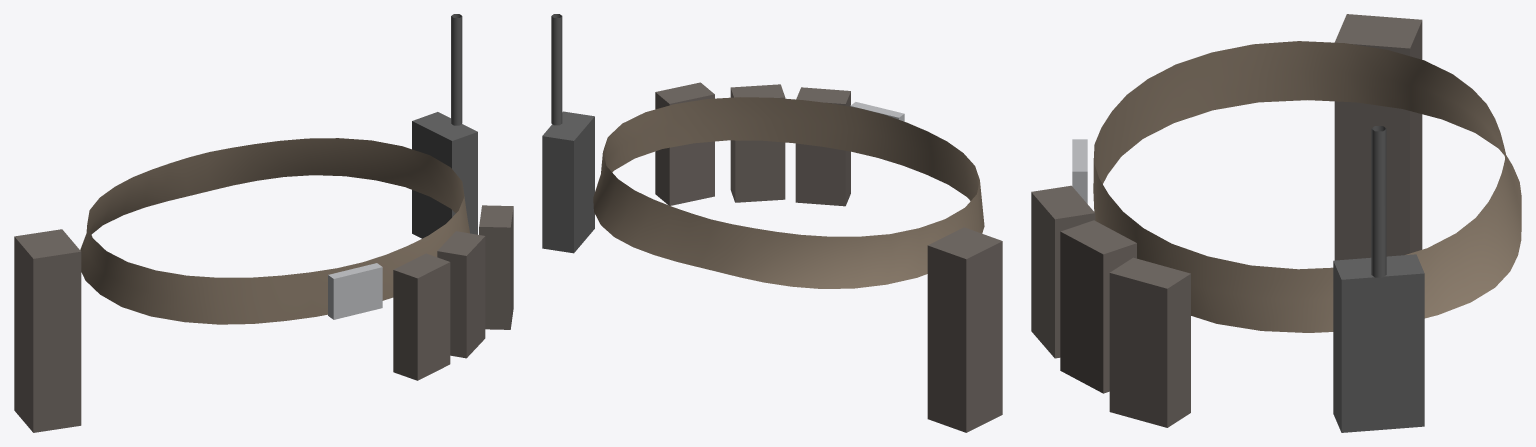
The model's file is cinto_tatico_marrom.glb.
3 renders of one model, left to right at view 1: azimuth 30°, elevation 25°; view 2: azimuth 150°, elevation 25°; view 3: azimuth 270°, elevation 25°, orthographic. The views are drawn at different scales.
Parts seen in each view (by area): view 1: cinto_tatico_marrom; view 2: cinto_tatico_marrom; view 3: cinto_tatico_marrom.
Part boxes in pixels (x1,y1,x2,y2): cinto_tatico_marrom: [14, 14, 513, 432]; cinto_tatico_marrom: [542, 14, 1002, 432]; cinto_tatico_marrom: [1031, 14, 1521, 432].
Bounding box in the file's own units: 0.4523 × 0.295 × 0.3194.
